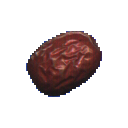gd: (9, 26, 117, 111)
